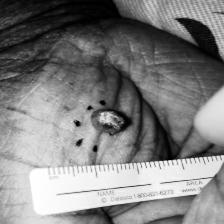Benign Marking or Mole: (90, 110, 133, 135)
